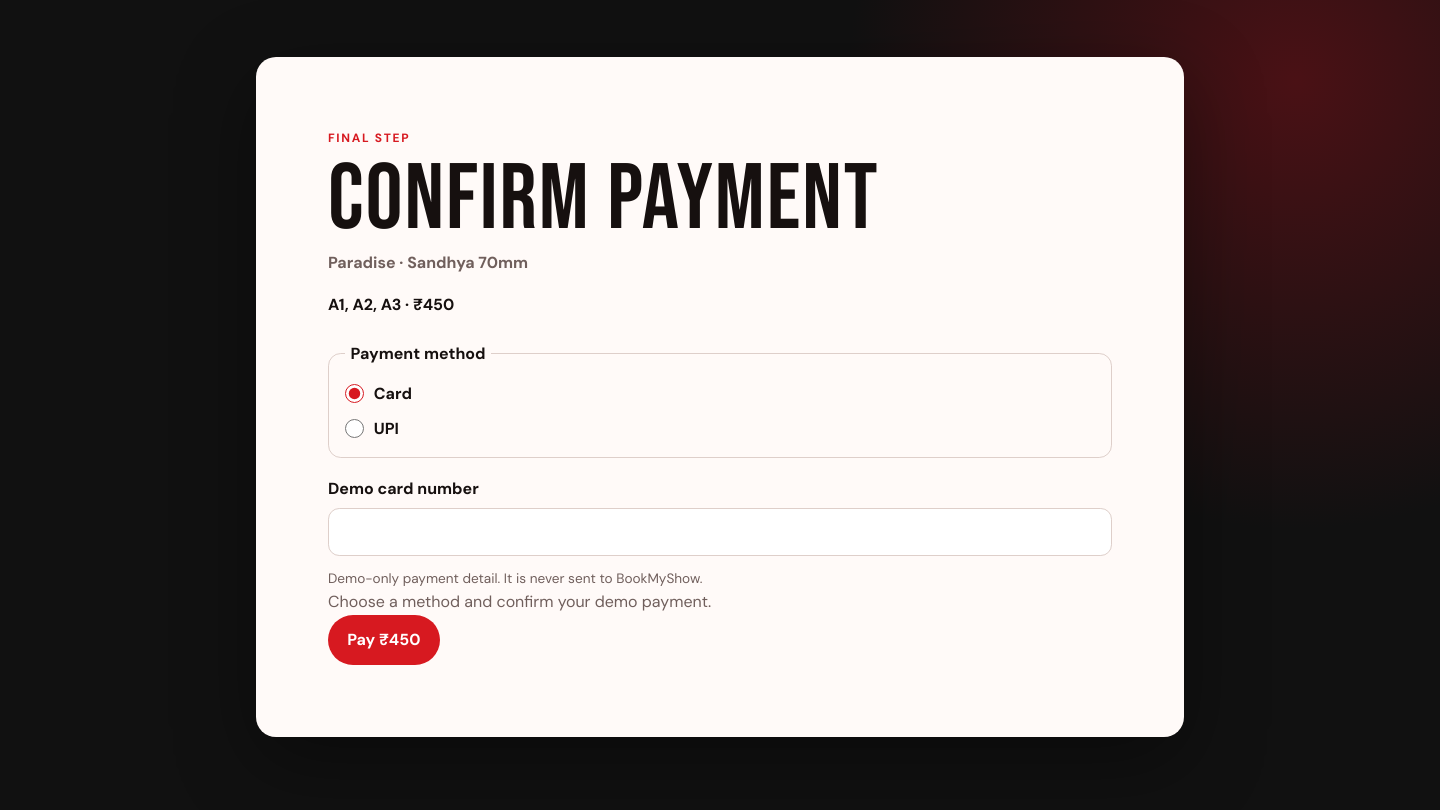
Test: PaymentComponent › returns to payment, enables the visible retry control, and announces an API failure
The width and height of the screenshot is (1440, 810).
What coordinates should you click on to do the following:
click the button "Pay ₹450"
I would click on:
 (384, 640)
Its box is left=328, top=615, right=440, bottom=665.
Wait 2000 ms
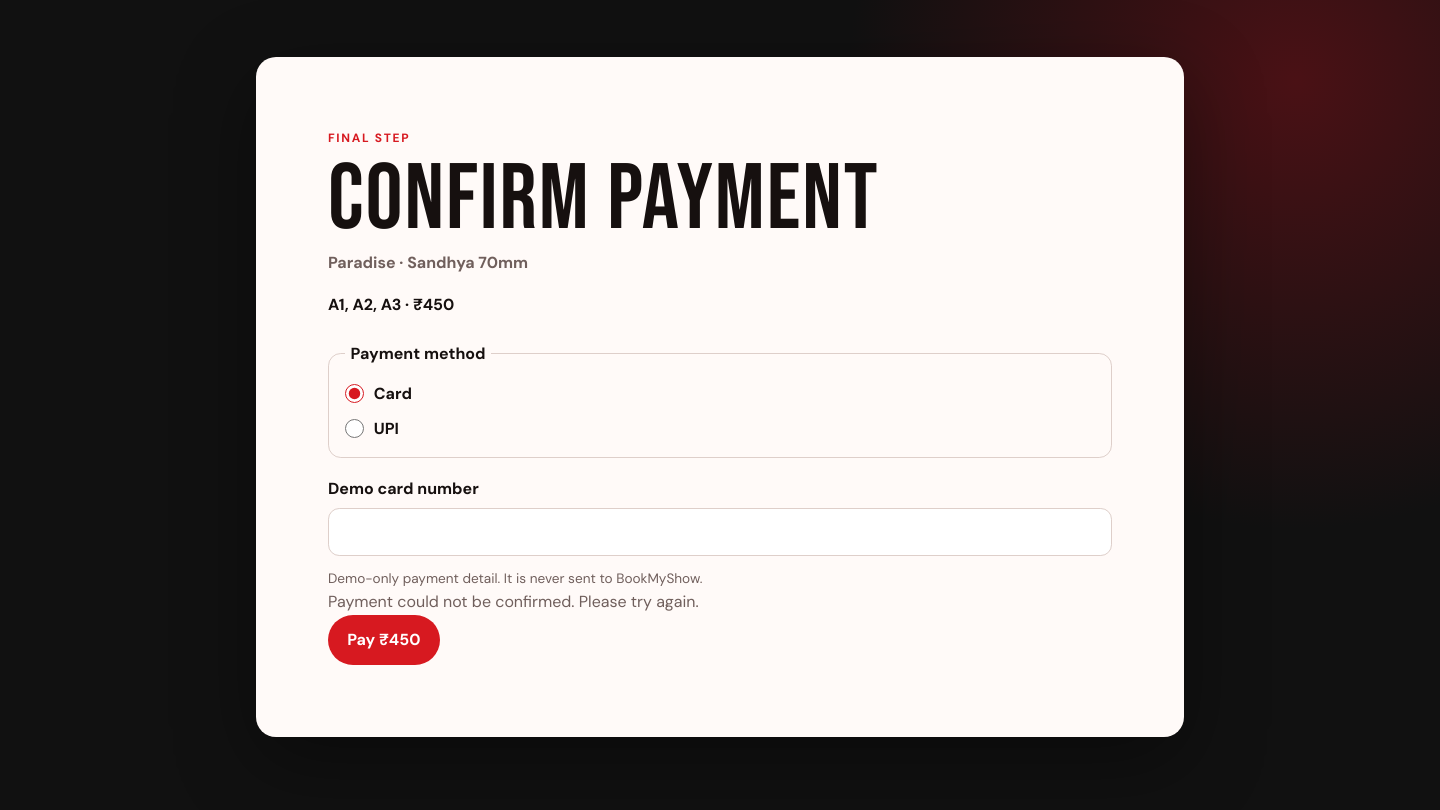
Result: the text "Payment could not be confirmed. Please try again." is shown at left=328, top=591, right=699, bottom=612
